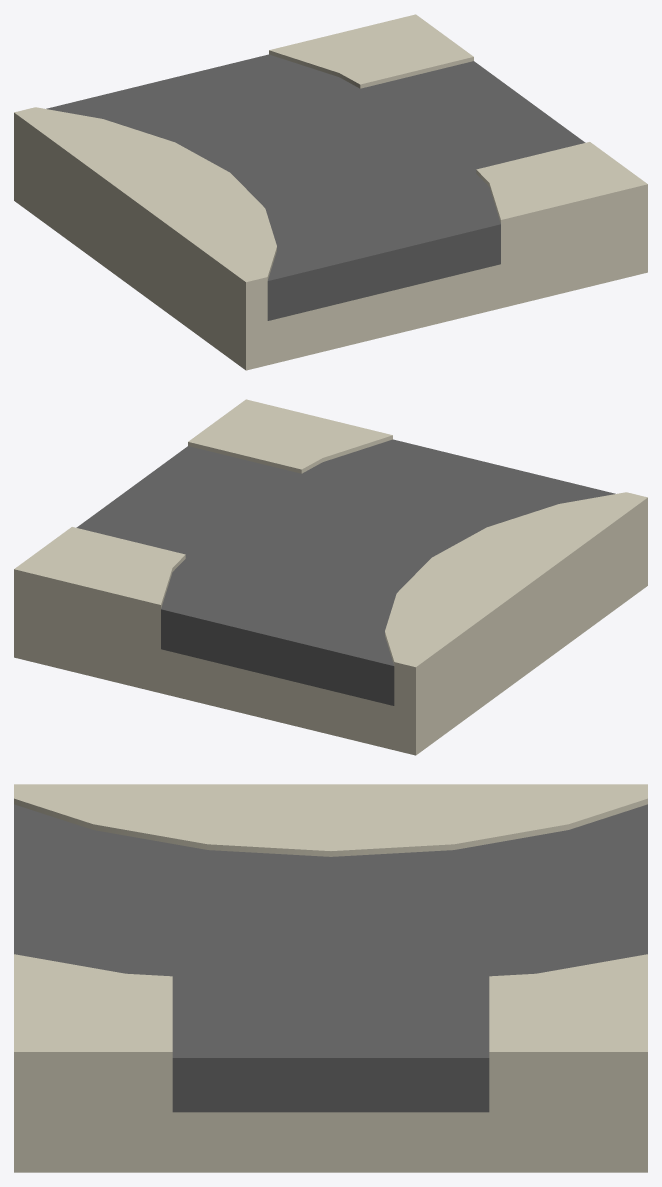
File: tile018.fbx
The picture shows the model from 3 angles, top to bottom: view 1: azimuth 30°, elevation 25°; view 2: azimuth 150°, elevation 25°; view 3: azimuth 270°, elevation 25°; orthographic projection. The views are drawn at different scales.
Visible parts, largest first — view 1: tile018; view 2: tile018; view 3: tile018.
Boxes of the visible parts, x1=… form: tile018: x1=14, y1=14, x2=647, y2=370; tile018: x1=14, y1=399, x2=647, y2=755; tile018: x1=14, y1=784, x2=647, y2=1172.
Size of the model in its own units: 10 by 2.1 by 10.
